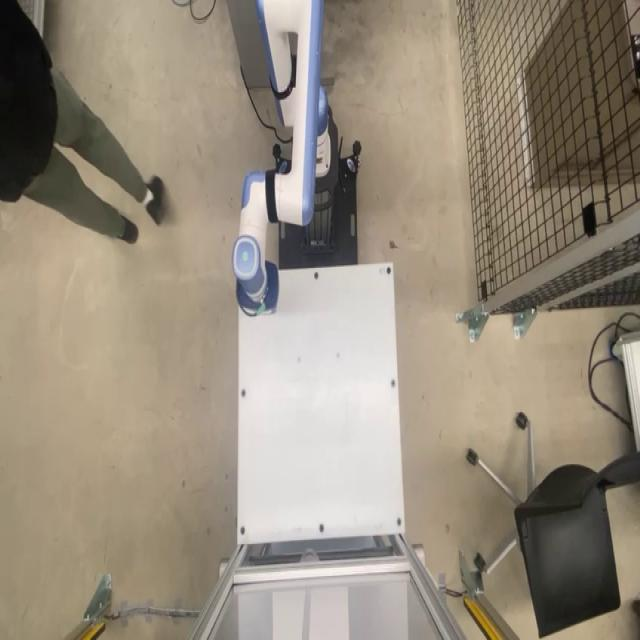human: (0, 0, 165, 244)
robot: (222, 0, 351, 349)
